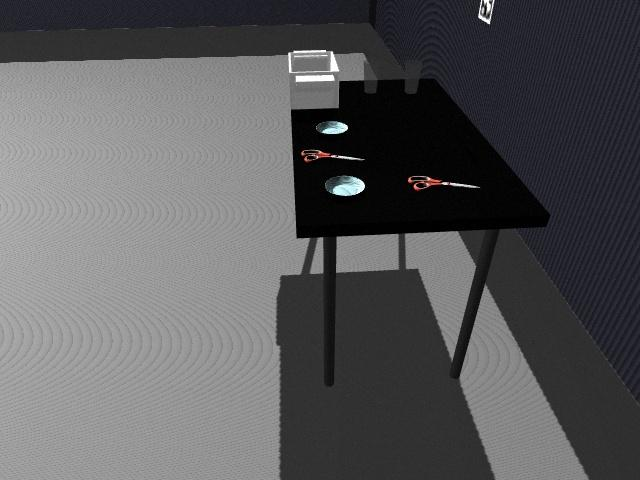cup: (403, 60, 422, 95), (363, 56, 379, 94)
plate: (325, 175, 366, 197), (315, 120, 349, 135)
scissors: (409, 174, 481, 191), (301, 149, 363, 163)
